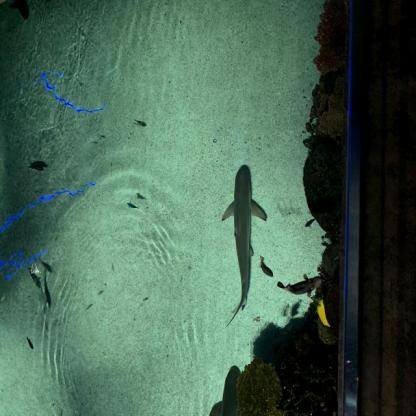fish: (277, 272, 323, 298), (259, 254, 274, 279), (28, 266, 42, 288), (38, 286, 46, 315), (39, 258, 53, 273), (126, 200, 140, 211), (29, 163, 46, 172), (304, 218, 317, 229), (25, 336, 34, 350), (131, 120, 144, 129), (86, 304, 94, 310), (100, 134, 108, 140), (112, 262, 114, 272)
shark: (220, 164, 268, 331)
